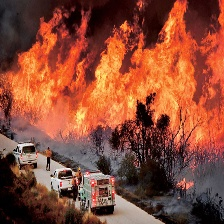fire: (5, 5, 224, 154)
smoke: (84, 147, 224, 197), (14, 127, 84, 158)
